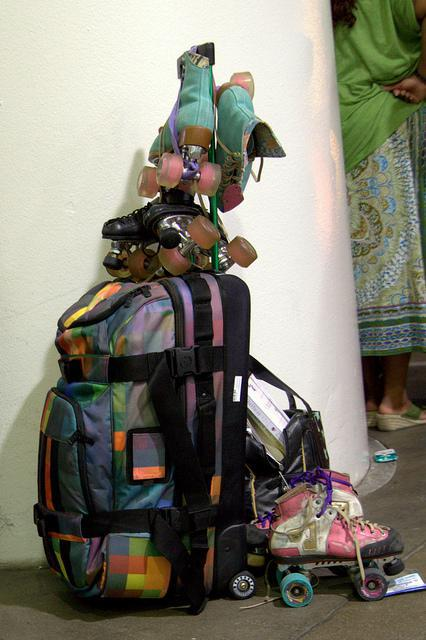hand: (393, 68, 424, 102)
